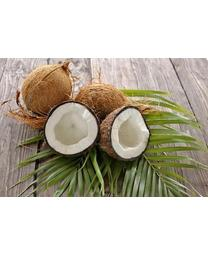coconut: (44, 99, 100, 157), (99, 105, 151, 162), (21, 64, 73, 117), (75, 82, 128, 126)
